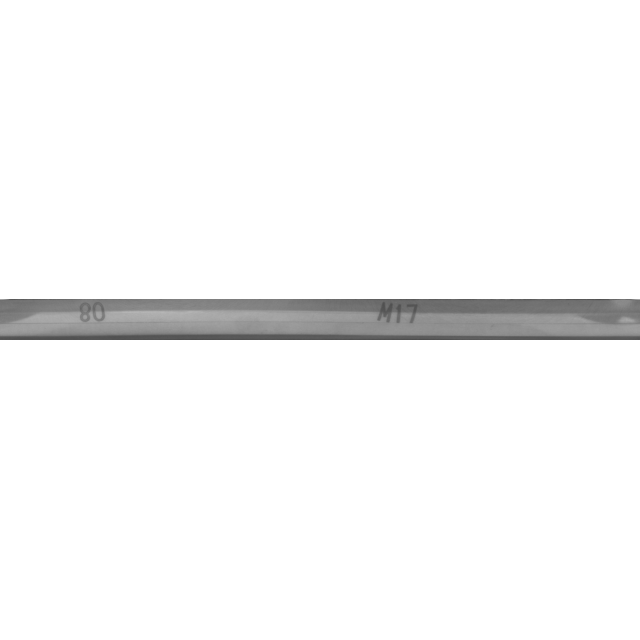mohao: (293, 270, 493, 370)
xuehao: (0, 270, 185, 370)
